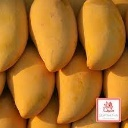mango: (6, 45, 55, 120)
